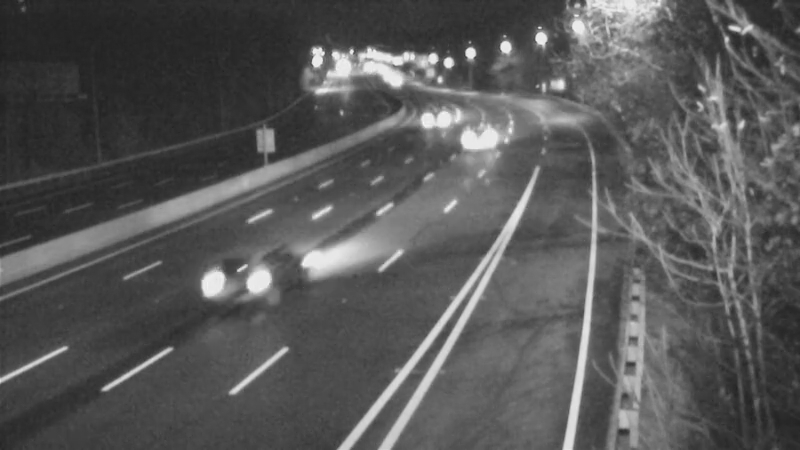vehicle: (199, 241, 279, 321), (408, 93, 458, 143), (461, 114, 511, 164)
